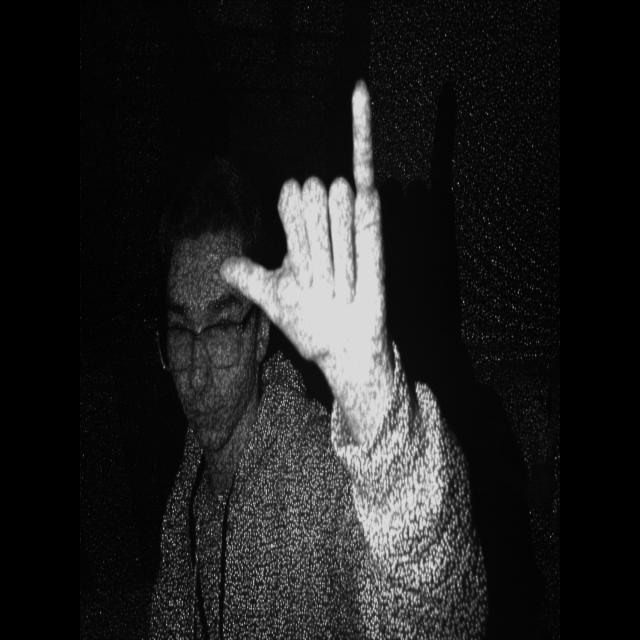Y: (208, 61, 429, 401)
